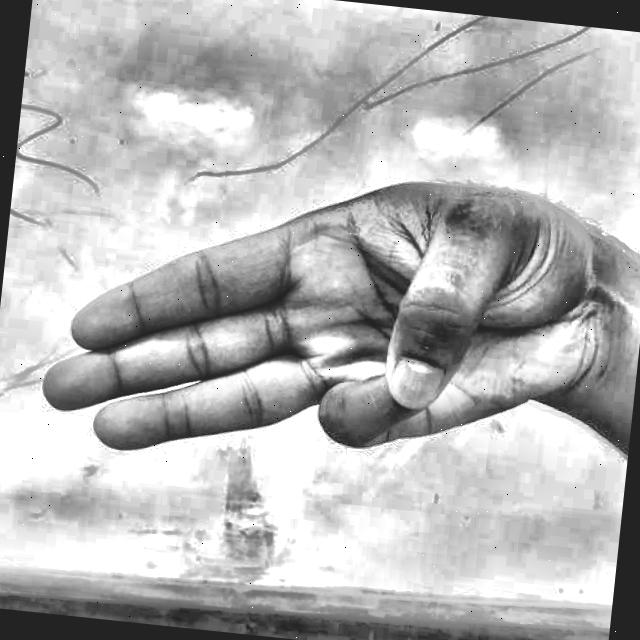Ma: (17, 125, 617, 534)
